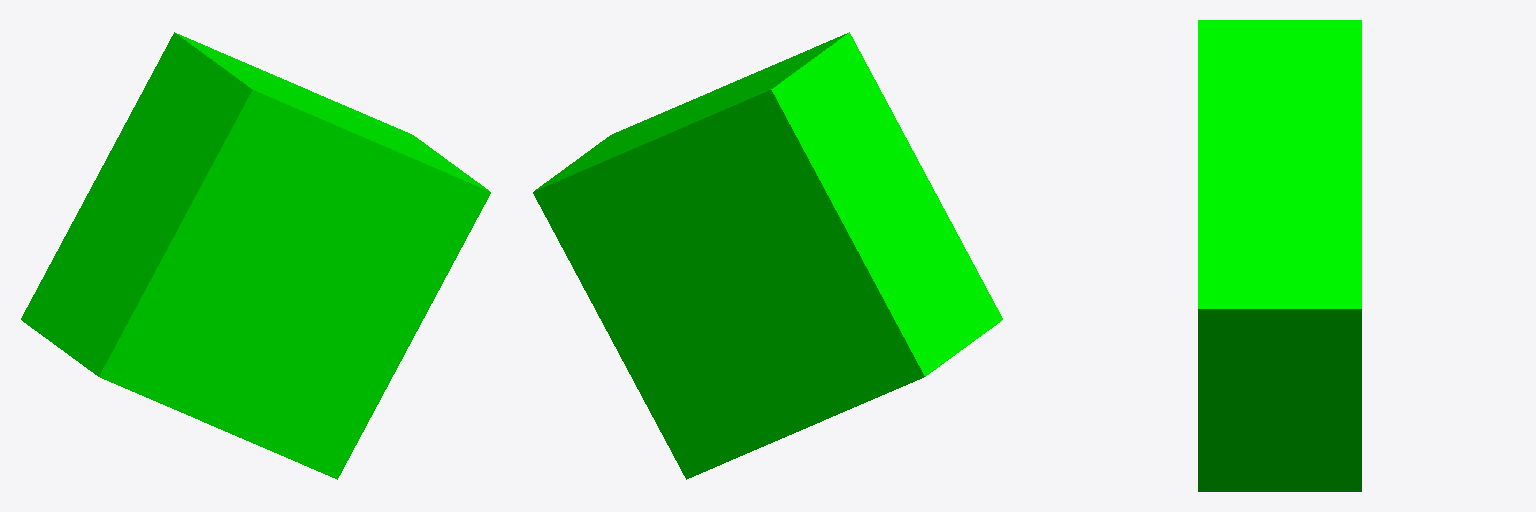
robot.urdf — globe:
<?xml version="1.0"?>
<robot name="globe">
  <link name ="rb1_marker">
    <visual>
      <origin xyz='0 0 0'/>
      <geometry>
        <mesh filename="green_square.obj"  scale="1 1 1" />
      </geometry>
			<material name="red">
        <color rgba="0 1 0 1"/>
  		</material>
    </visual>
    <collision>
      <origin xyz='0 0 0'/>
      <geometry>
        <mesh filename="green_square.obj"  scale="1 1 1" />
      </geometry>
    </collision>
  </link>
</robot>

--- Render facts (derived) ---
Views: 3 orthographic renders of the robot side by side, from view 1: azimuth 30°, elevation 25°; view 2: azimuth 150°, elevation 25°; view 3: azimuth 270°, elevation 25°.
Model globe with 1 links and 0 joints (none), rooted at rb1_marker, posed every joint at zero.
Links seen in each view (by area): view 1: rb1_marker; view 2: rb1_marker; view 3: rb1_marker.
Link boxes in pixels (left/top/right/bottom): rb1_marker: left=21, top=32, right=490, bottom=479; rb1_marker: left=533, top=32, right=1002, bottom=479; rb1_marker: left=1198, top=20, right=1361, bottom=491.
Bounding box of the posed robot: 0.2286 × 0.079 × 0.2286 m (x, y, z).
Meshes: 1 distinct files referenced, 1 mesh visuals loaded (1 OBJ).